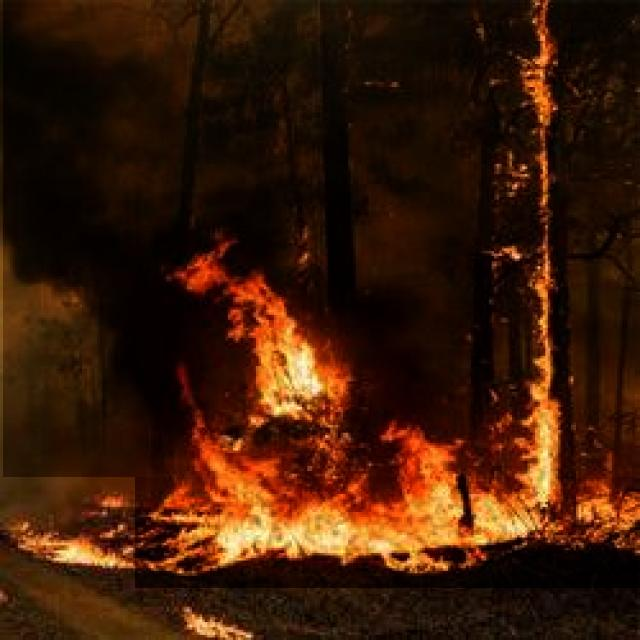Fire: (135, 240, 640, 588)
Smoke: (3, 0, 640, 477)
